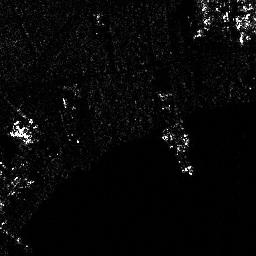ship: (162, 131, 196, 175)
